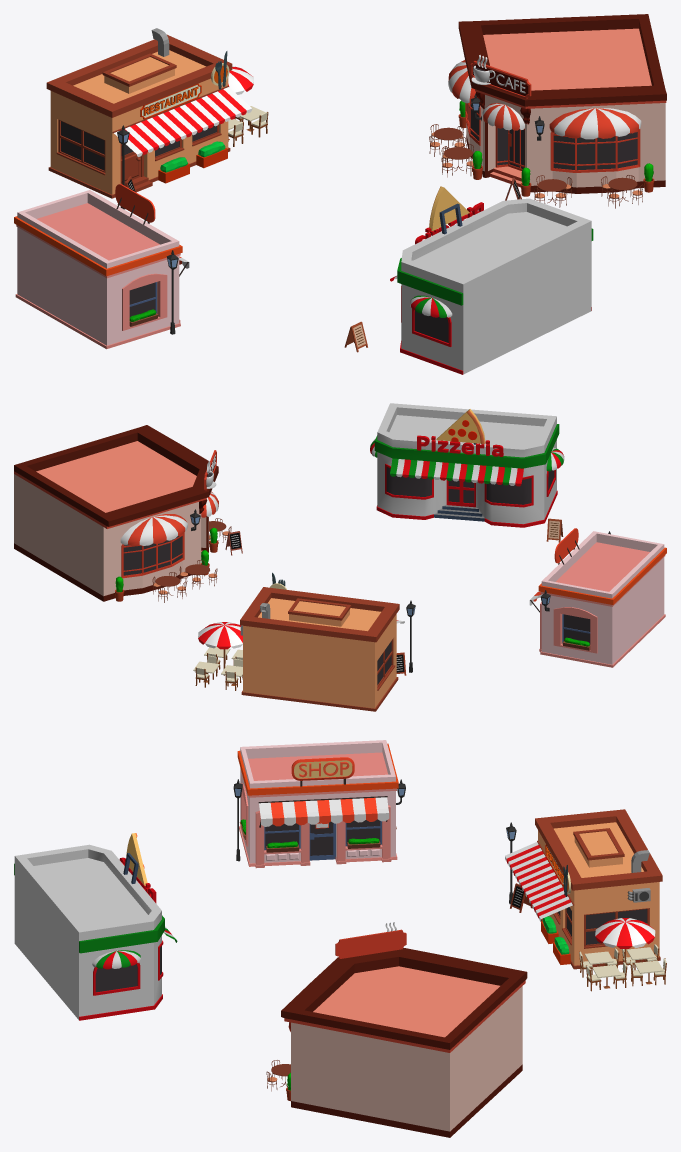
The model's file is batiments.glb.
3 views of the same model, one above another, from view 1: azimuth 30°, elevation 25°; view 2: azimuth 150°, elevation 25°; view 3: azimuth 270°, elevation 25° (orthographic). The views are drawn at different scales.
Parts seen in each view (by area): view 1: CafeBuilding, PizzaBuilding, RestaurantBuilding, ShopBuilding; view 2: CafeBuilding, PizzaBuilding, RestaurantBuilding, ShopBuilding; view 3: CafeBuilding, PizzaBuilding, RestaurantBuilding, ShopBuilding.
Part boxes in pixels (x1,y1,x2,y2): CafeBuilding: [429, 14, 666, 208]; PizzaBuilding: [390, 186, 593, 374]; RestaurantBuilding: [46, 28, 268, 209]; ShopBuilding: [14, 184, 189, 349]; CafeBuilding: [14, 425, 242, 602]; PizzaBuilding: [370, 403, 564, 527]; RestaurantBuilding: [193, 572, 415, 711]; ShopBuilding: [529, 528, 666, 667]; CafeBuilding: [266, 922, 527, 1137]; PizzaBuilding: [14, 833, 177, 1020]; RestaurantBuilding: [505, 809, 666, 991]; ShopBuilding: [237, 740, 405, 868].
Size of what is drawn, in the model's own units: 17.12 by 3.27 by 14.93.
Materials: 1 (1 with a texture image).
